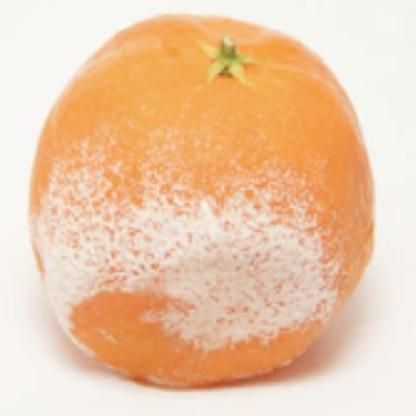rotten: (32, 16, 375, 384)
